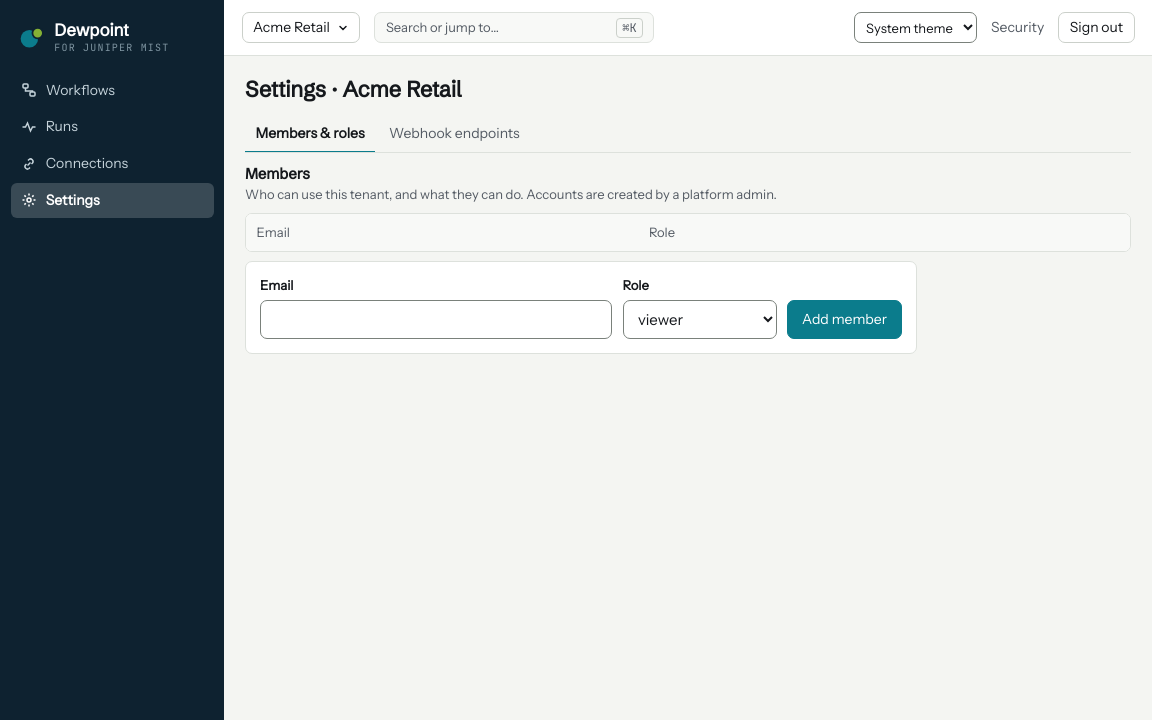
Scenario: opens Settings → Webhook endpoints from its tab (4c-3b)
Click the link "Webhook endpoints" at (454, 133), box [389,124,520,142]
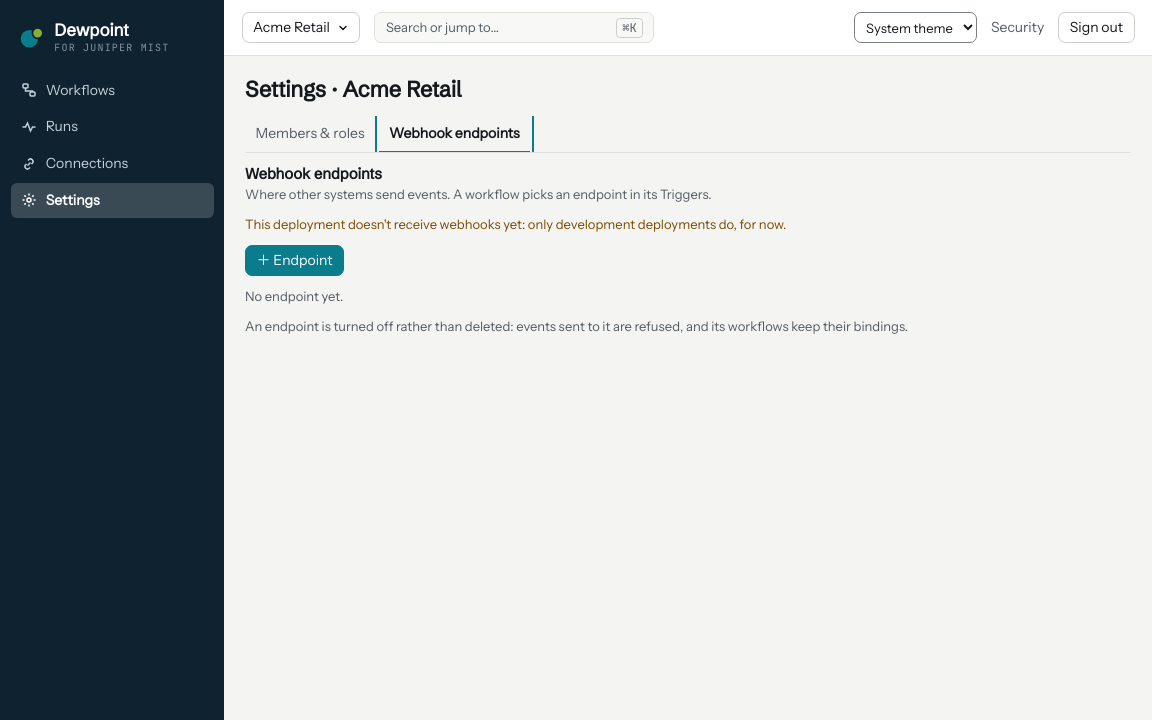
Expected: the heading "Webhook endpoints" is shown, [245,164,382,183]
